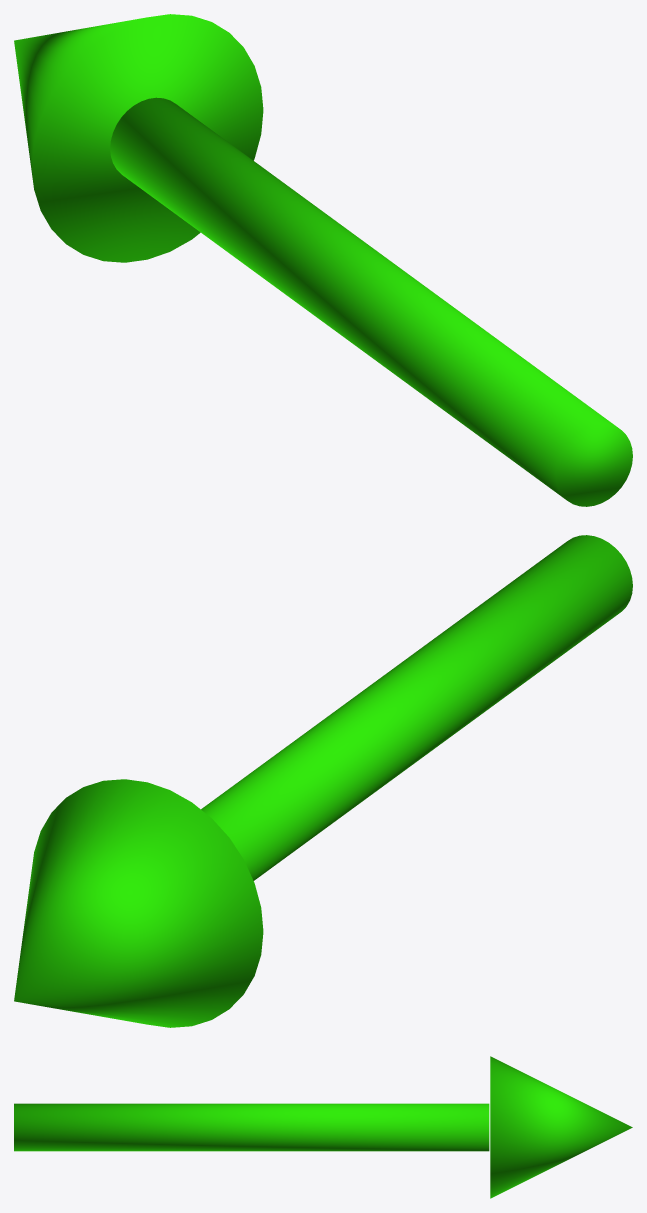
The model's file is arrow.glb.
The picture shows the model from 3 angles, top to bottom: view 1: azimuth 30°, elevation 25°; view 2: azimuth 150°, elevation 25°; view 3: azimuth 270°, elevation 25°; orthographic projection. The views are drawn at different scales.
Parts seen in each view (by area): view 1: Arrow; view 2: Arrow; view 3: Arrow.
Part boxes in pixels (x1,y1,x2,y2): Arrow: [14, 14, 632, 506]; Arrow: [14, 535, 632, 1027]; Arrow: [14, 1056, 632, 1198].
Bounding box in the file's own units: 0.12 × 0.12 × 0.5209.
